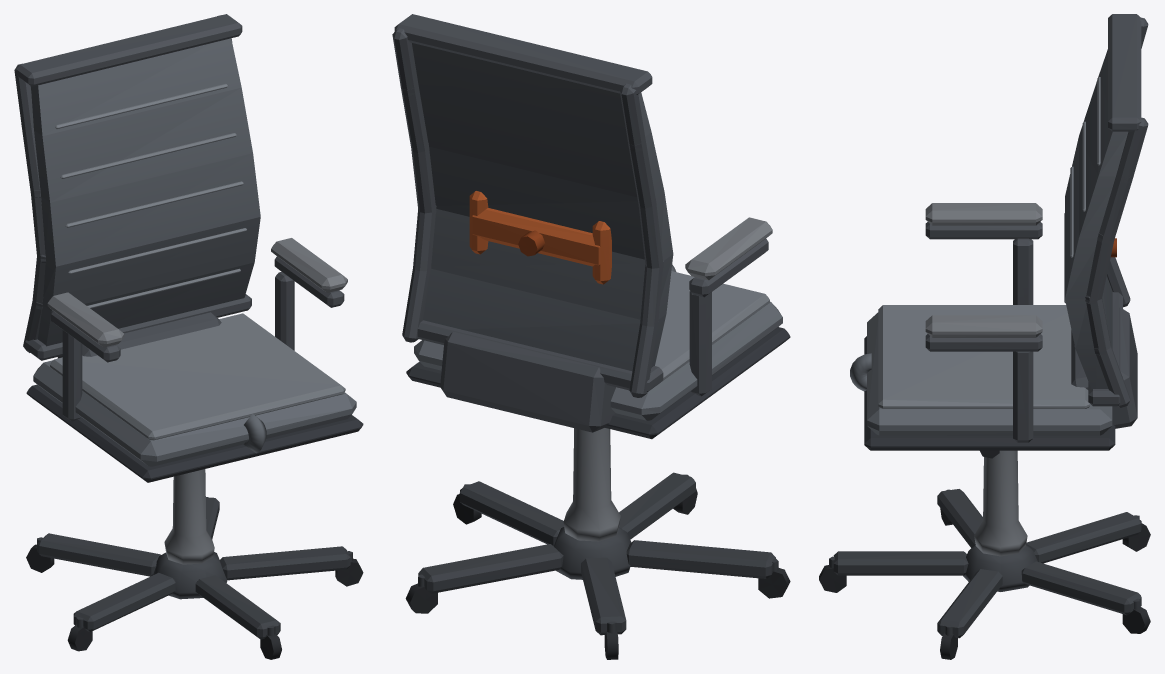
Rendered from task_chair.glb.
3 renders of one model, left to right at view 1: azimuth 30°, elevation 25°; view 2: azimuth 150°, elevation 25°; view 3: azimuth 270°, elevation 25°, orthographic. The views are drawn at different scales.
Parts seen in each view (by area): view 1: task_chair; view 2: task_chair; view 3: task_chair.
Boxes of the visible parts, bbox=[...] form: task_chair: bbox=[14, 14, 363, 659]; task_chair: bbox=[392, 14, 790, 659]; task_chair: bbox=[819, 14, 1150, 659].
Size of the model in its own units: 0.6257 by 1.04 by 0.595.
